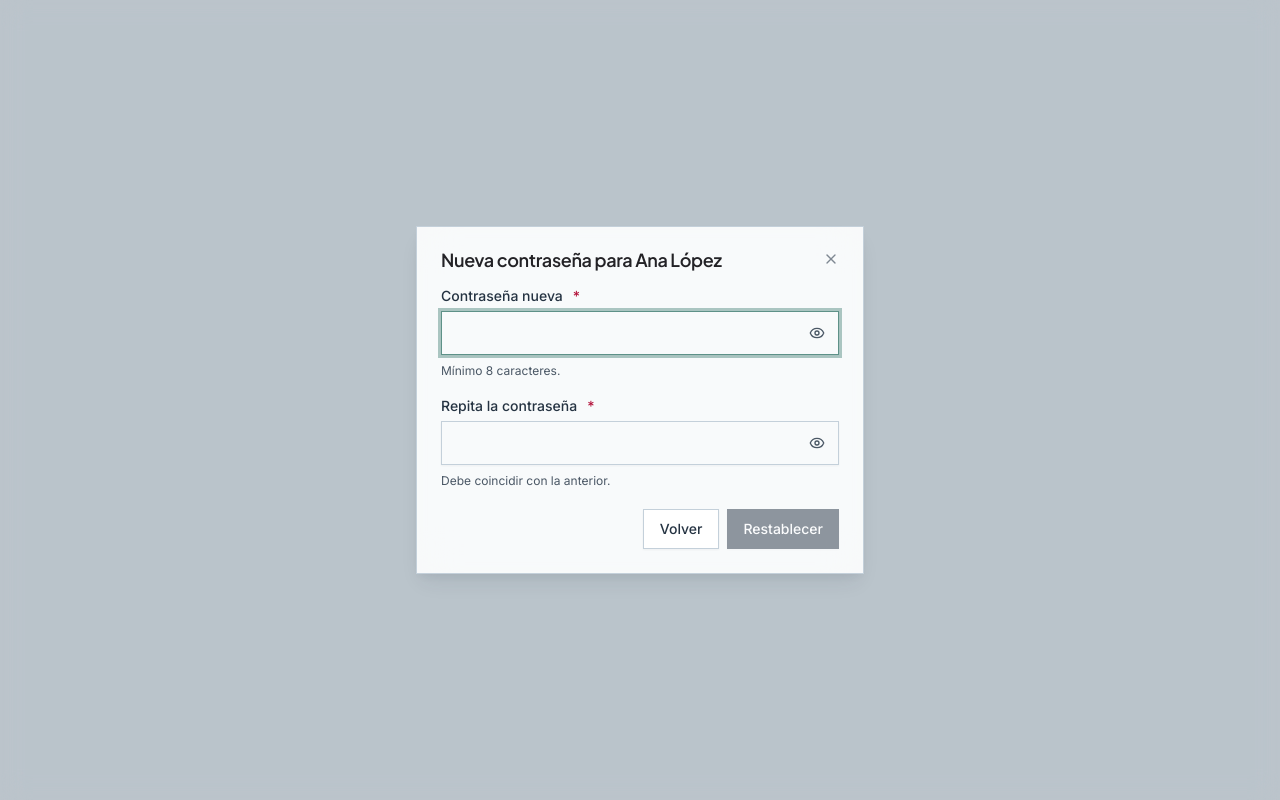
Test: ContrasenaDialog › muestra el error del servidor y no cierra el diálogo
This screenshot has width=1280, height=800.
Type "ClaveSegura2026" into the password field labelled "Contraseña nueva *".
click(640, 333); type("ClaveSegura2026")  # box [441,311,839,355]
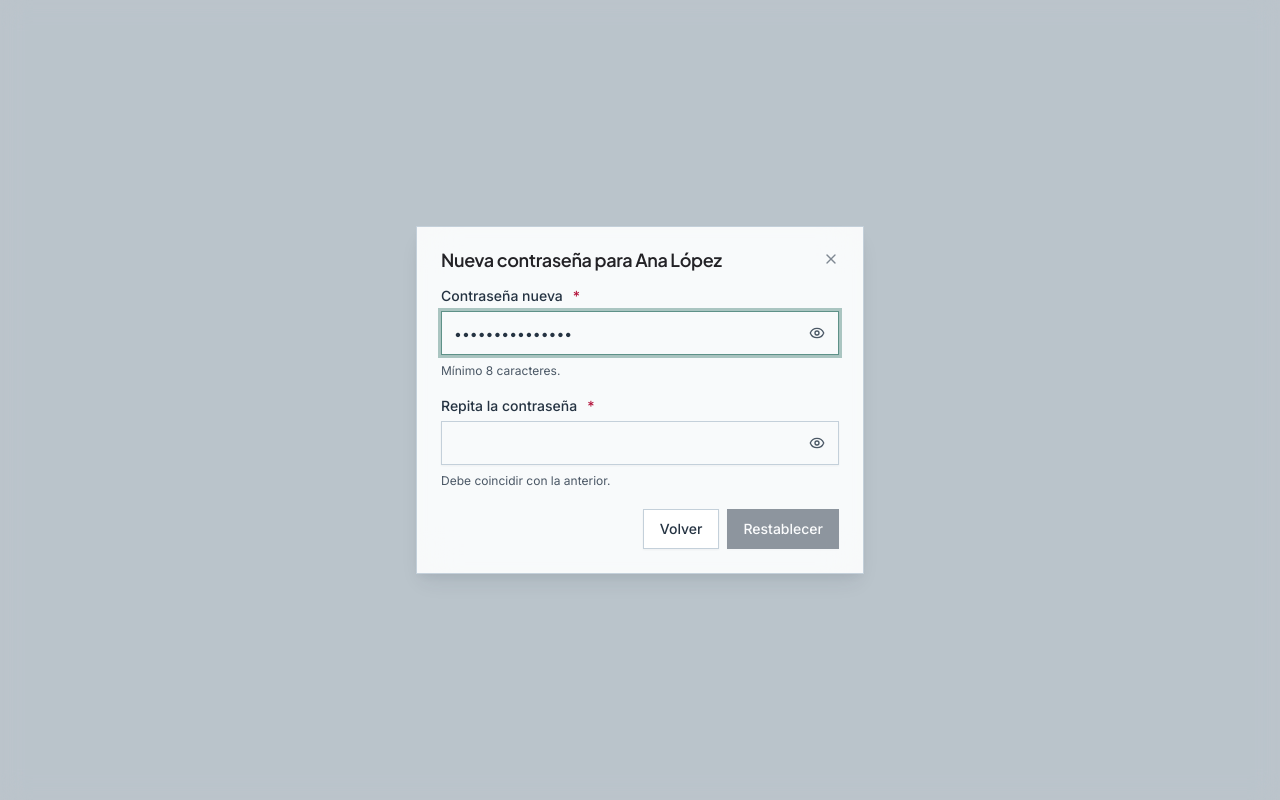
Type "ClaveSegura2026" into the password field labelled "Repita la contraseña *".
click(640, 443); type("ClaveSegura2026")  # box [441,421,839,465]
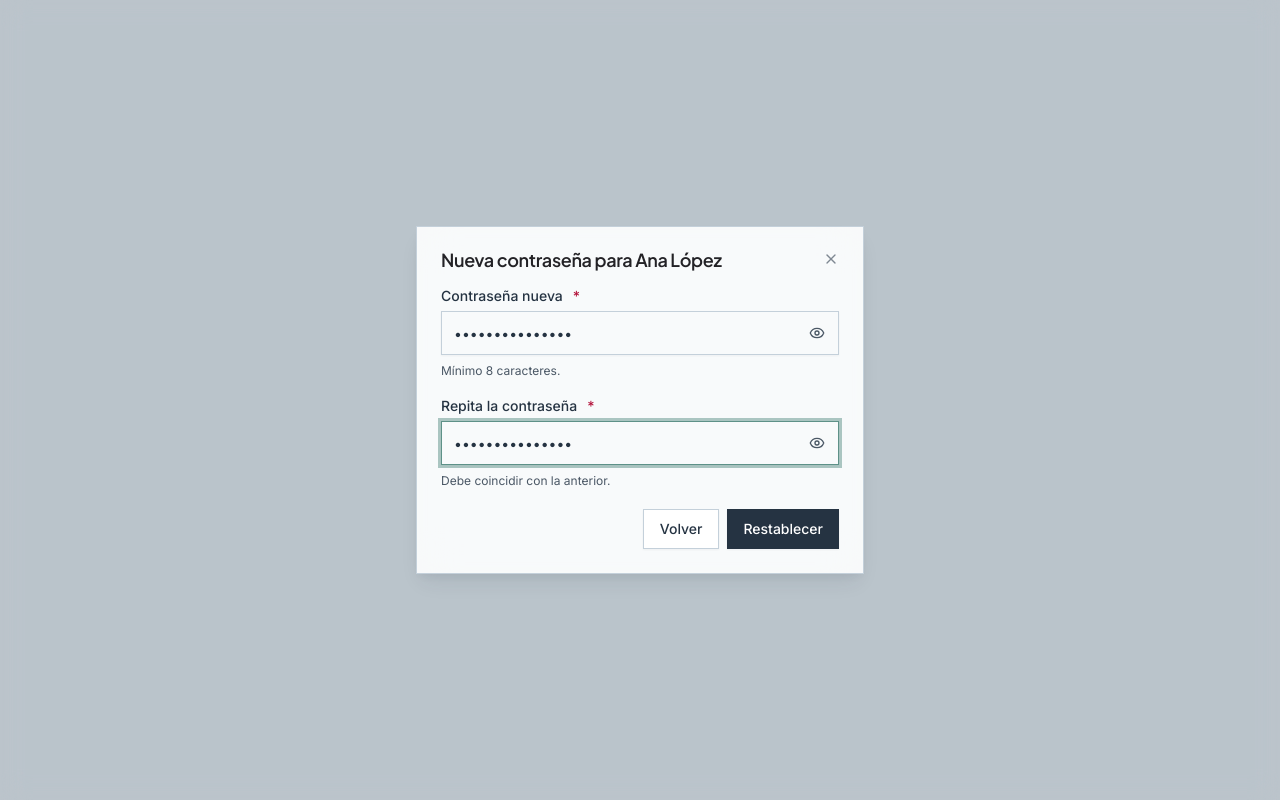
Click the button "Restablecer".
click(783, 529)  # box [727,509,839,549]
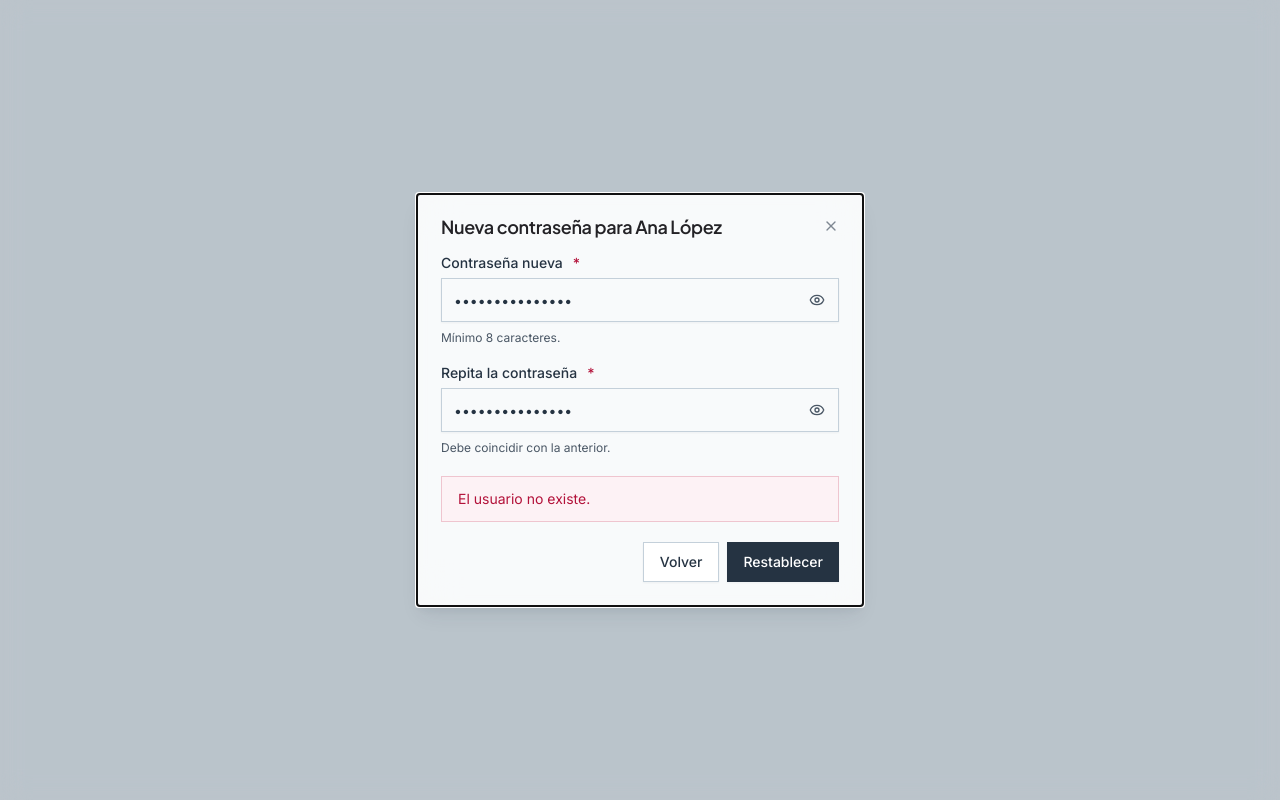
Check: the text "El usuario no existe." is shown, box [458,490,590,507]
